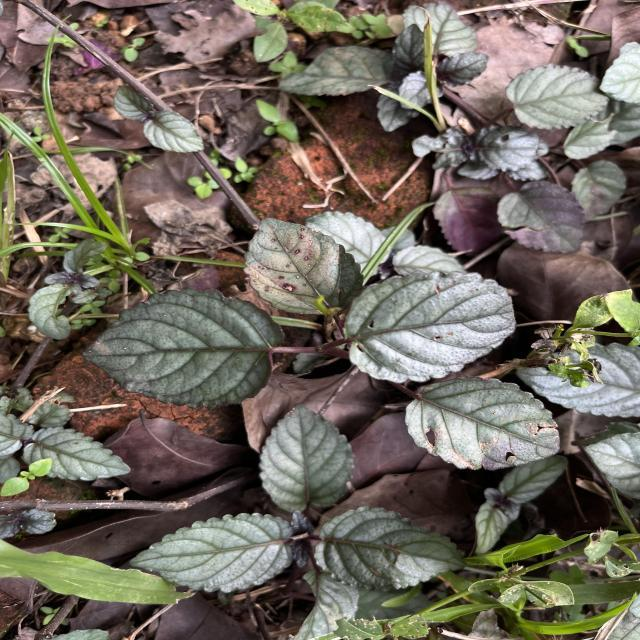Hemigraphis colorata: (75, 284, 286, 410), (340, 266, 520, 384), (402, 369, 562, 472), (125, 508, 303, 596), (312, 502, 476, 594), (240, 215, 368, 320), (254, 398, 360, 514), (505, 61, 613, 132), (18, 424, 134, 484), (140, 108, 208, 155), (110, 82, 157, 125)
